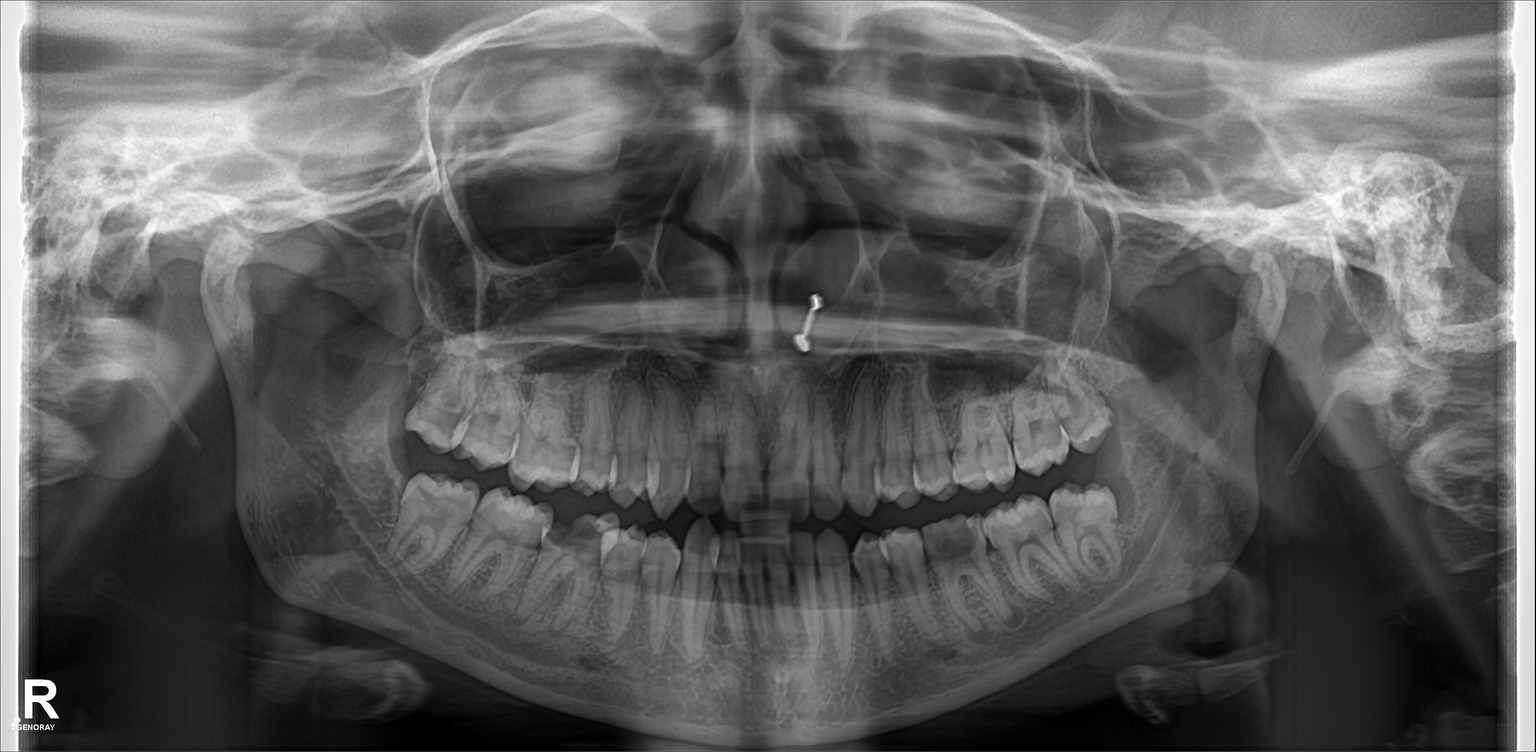Dental Caries: (923, 523, 986, 566), (548, 521, 603, 560)
